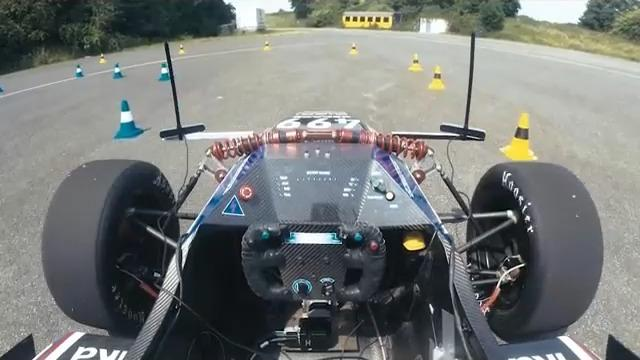blue_cone: (115, 99, 144, 139), (158, 63, 172, 82), (112, 63, 124, 80), (74, 64, 85, 78)
yellow_cone: (499, 112, 538, 161), (428, 66, 446, 90), (408, 53, 423, 72), (349, 42, 359, 55)
